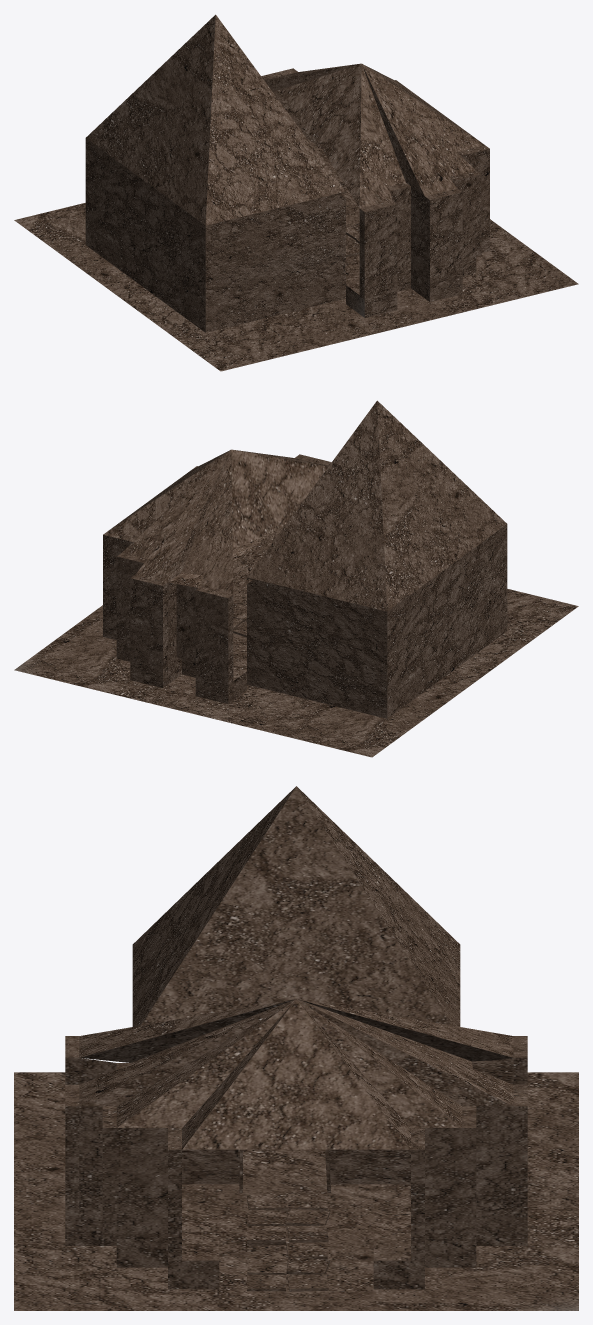
The model's file is House.gltf.
The picture shows the model from 3 angles, top to bottom: view 1: azimuth 30°, elevation 25°; view 2: azimuth 150°, elevation 25°; view 3: azimuth 270°, elevation 25°; orthographic projection. The views are drawn at different scales.
Visible parts, largest first — view 1: Cube; view 2: Cube; view 3: Cube.
Part boxes in pixels (box(x1,y1,x2,y2)): Cube: box(14, 14, 578, 371); Cube: box(14, 400, 578, 757); Cube: box(14, 786, 578, 1310).
Size of the model in its own units: 33.65 by 23.18 by 33.65.
1 material, 1 textured.
